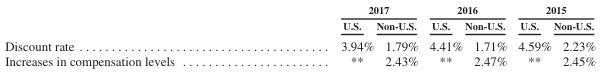table: (4, 3, 595, 67)
table column: (4, 3, 257, 67), (257, 3, 374, 67), (374, 3, 423, 67), (463, 3, 512, 67), (551, 3, 595, 67), (423, 3, 463, 67), (512, 3, 551, 67)
table column header: (4, 3, 595, 34)
table row: (4, 34, 595, 52), (4, 17, 595, 34), (4, 52, 595, 67), (4, 3, 595, 17)
table spanning cell: (257, 3, 423, 17), (423, 3, 512, 17), (512, 3, 595, 17)
